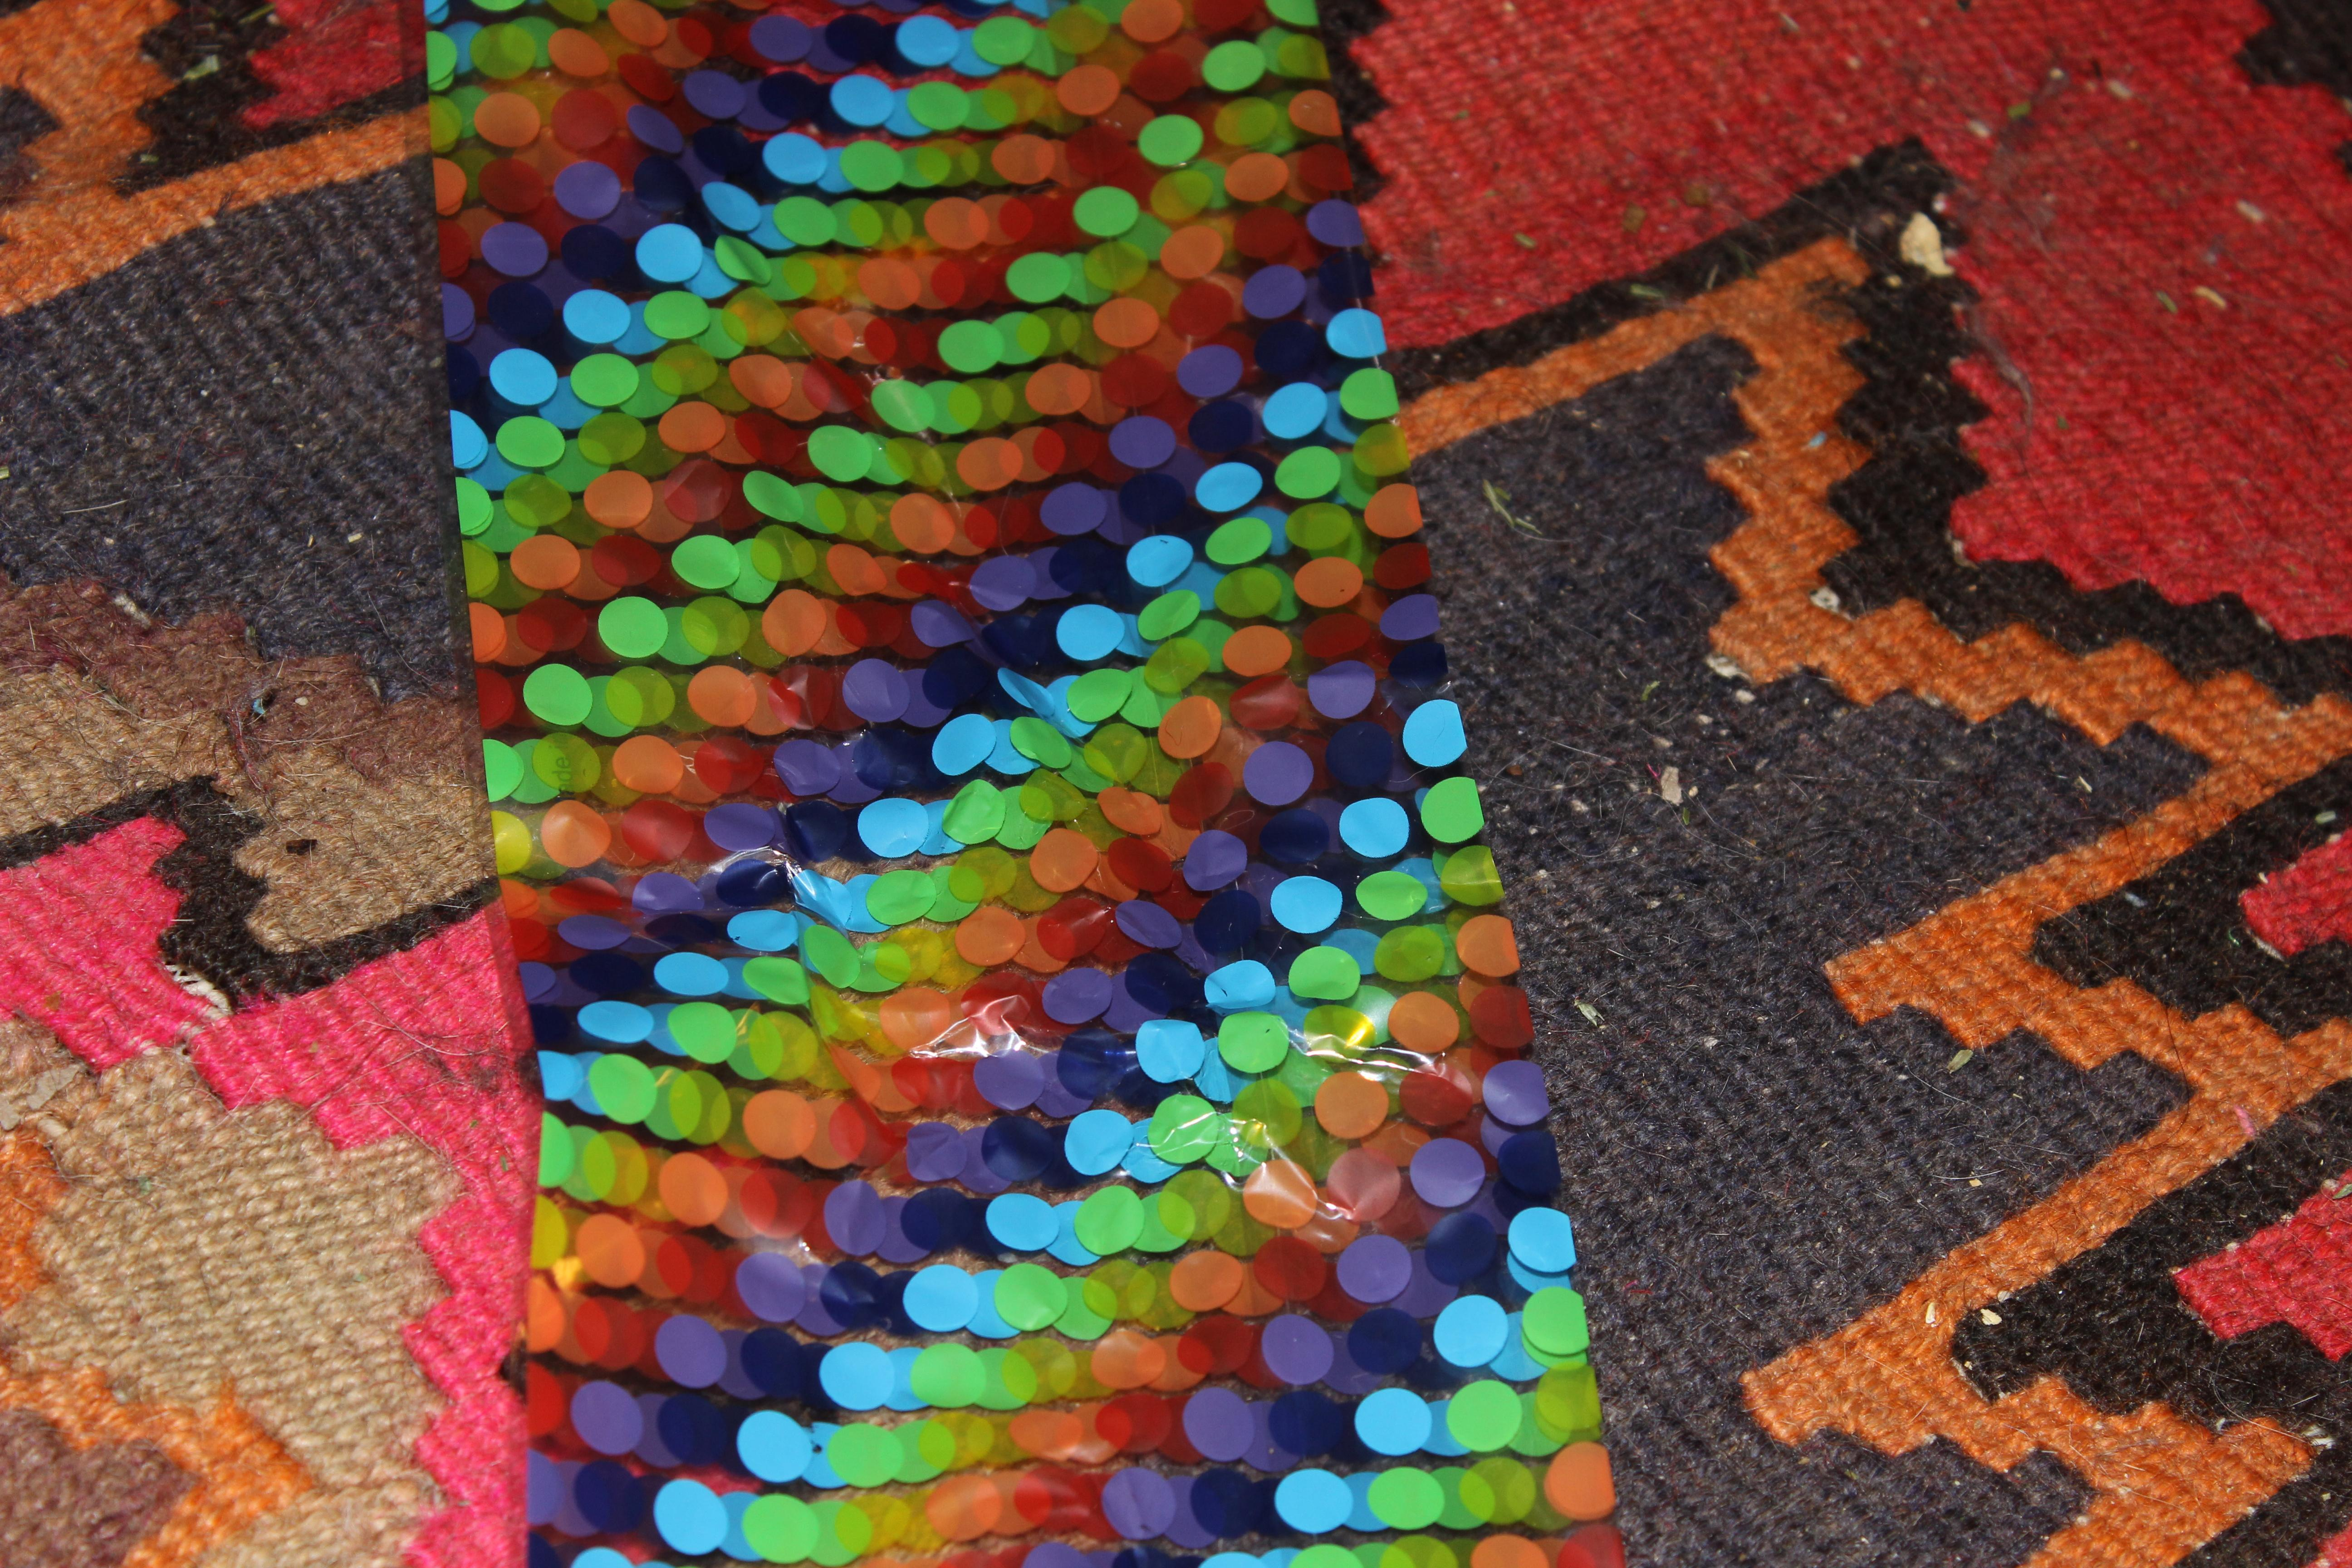giftBag: (373, 0, 1650, 1568)
